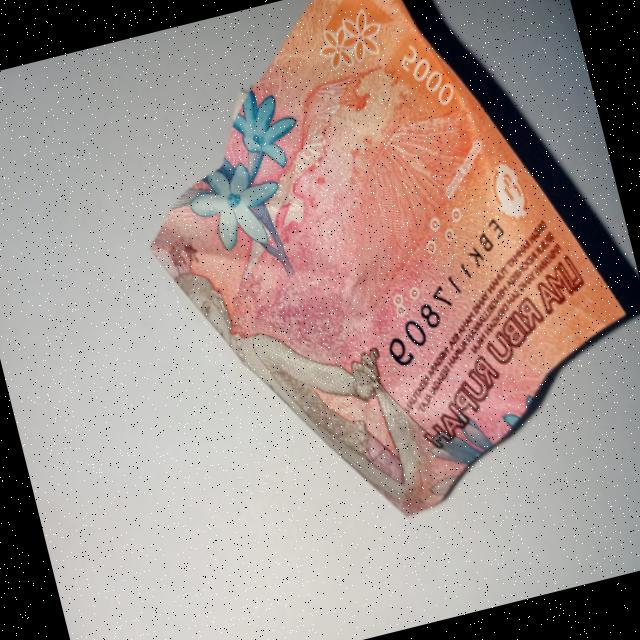5K: (99, 0, 640, 567)
